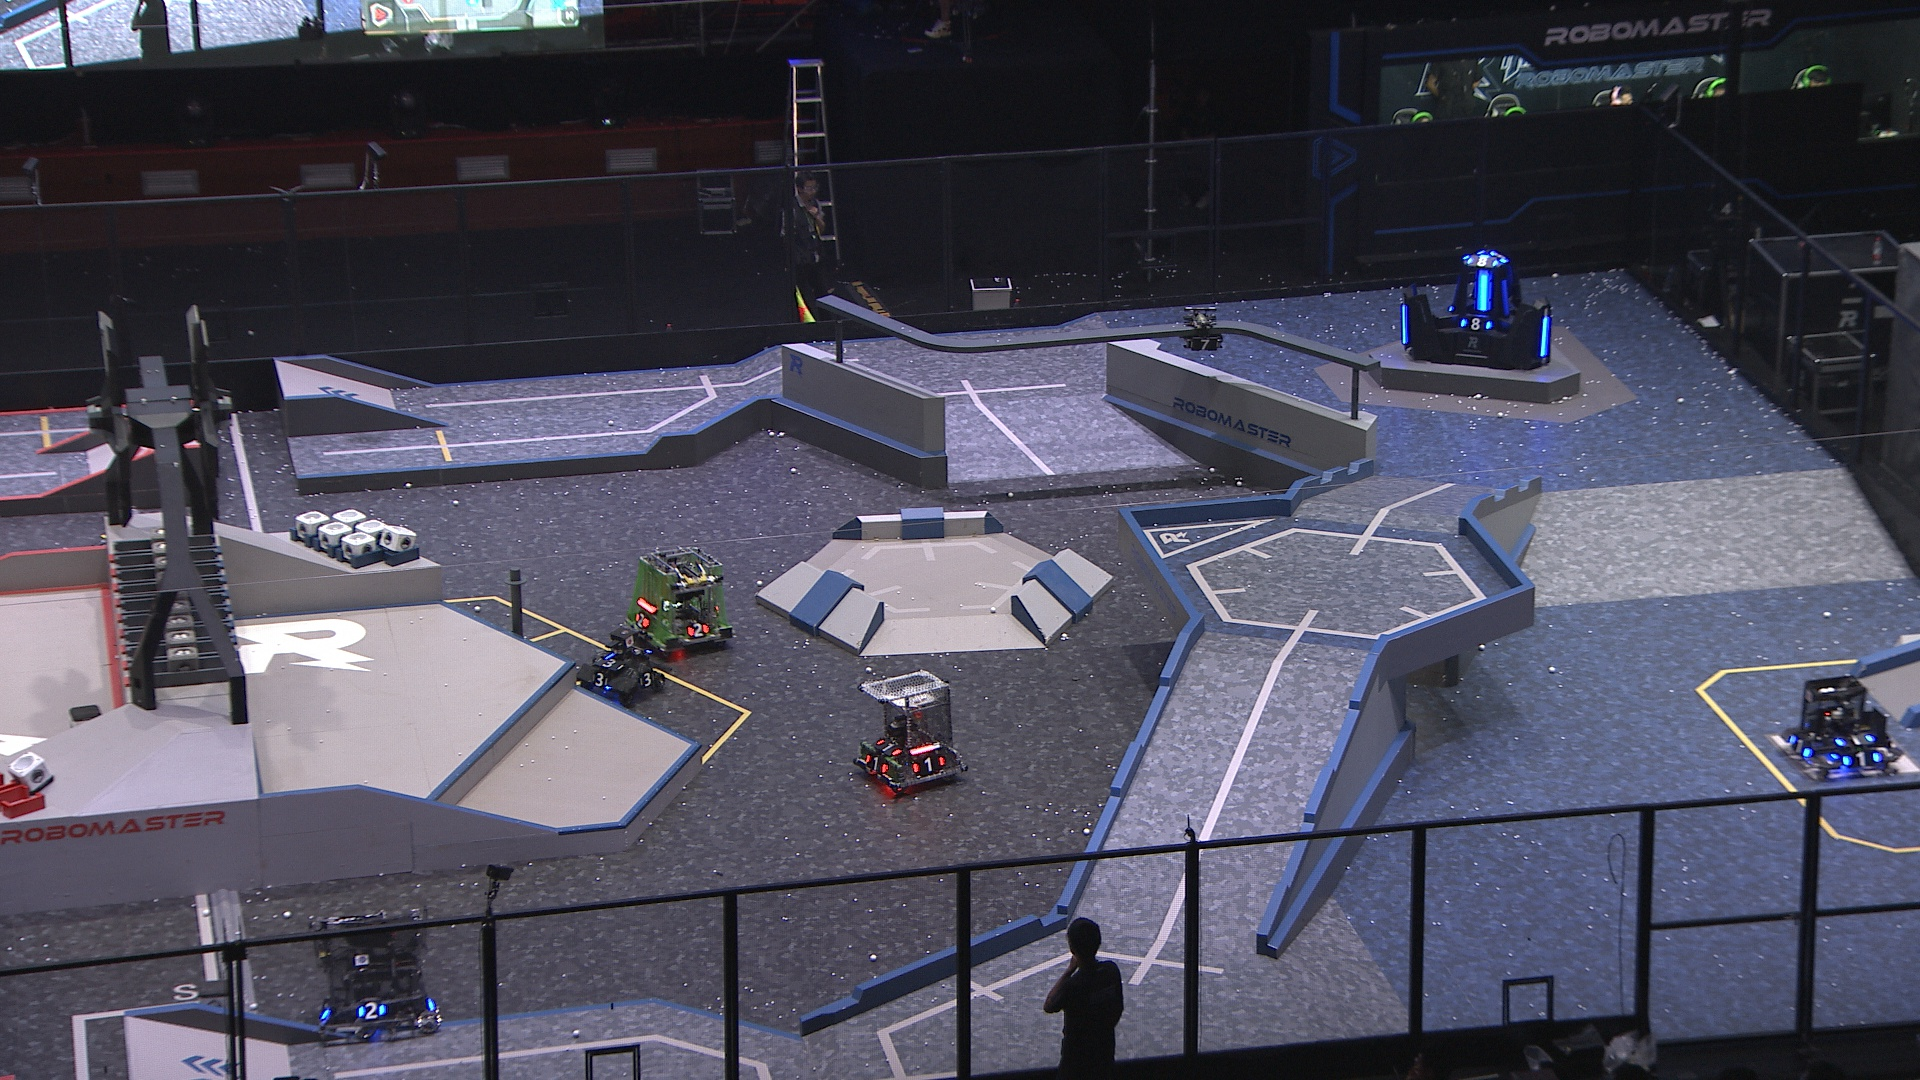armor: (1476, 268, 1494, 313), (913, 752, 945, 775), (1841, 749, 1880, 769), (1788, 733, 1815, 760), (356, 998, 386, 1021), (1538, 315, 1552, 360), (1833, 732, 1878, 746), (862, 752, 889, 775), (1466, 253, 1499, 270), (1460, 316, 1493, 334), (876, 737, 903, 757), (595, 657, 626, 674), (1188, 338, 1221, 353), (1399, 302, 1411, 345), (684, 621, 712, 640), (1499, 280, 1513, 318), (591, 670, 611, 688), (636, 612, 651, 629), (638, 671, 655, 687)
base: (1394, 248, 1553, 371)
car: (309, 901, 440, 1039), (851, 669, 967, 798), (1782, 671, 1903, 783), (622, 543, 735, 655), (574, 622, 666, 704)
watcher: (1179, 306, 1224, 353)
